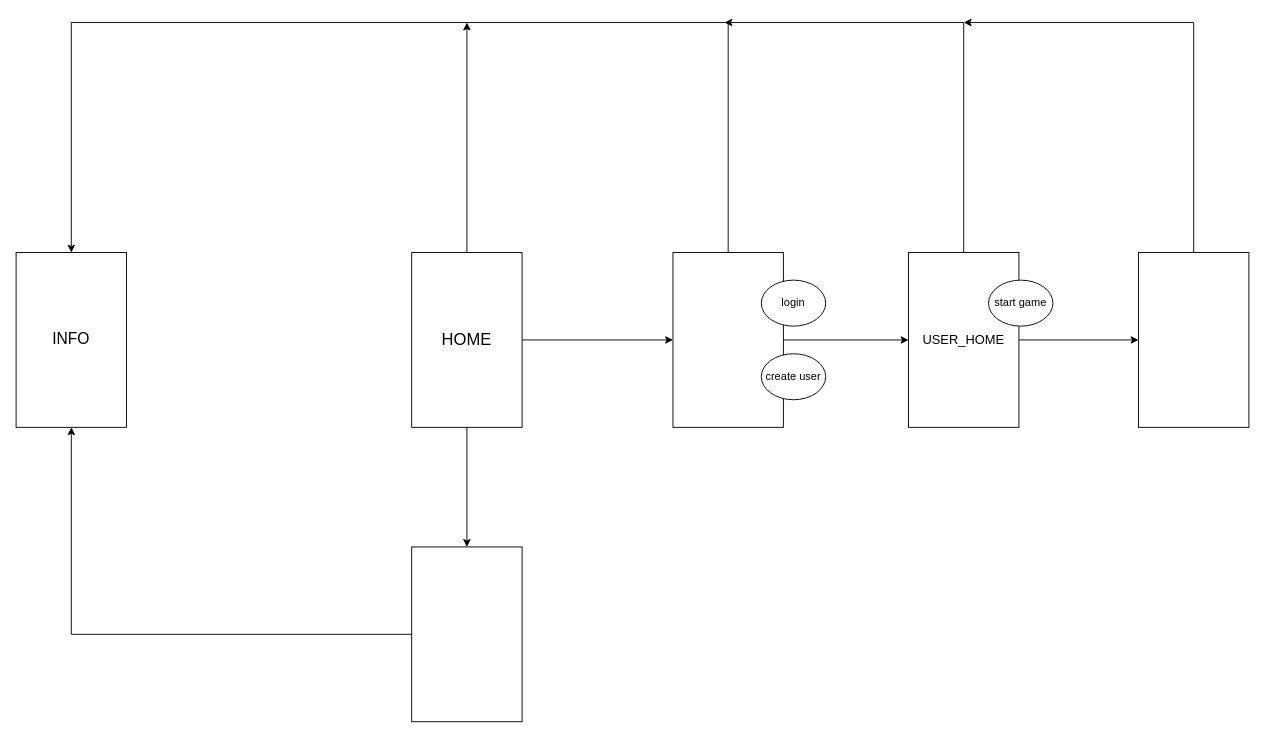
Some shapes in this 1265 by 738 pixel diagram are drawn without their labels. Each missing label, with the box of its shape:
AUTH (LOGIN/CREATE): (672, 252, 783, 427)
GAME: (1138, 252, 1249, 427)
RANKINGS: (411, 546, 522, 722)
